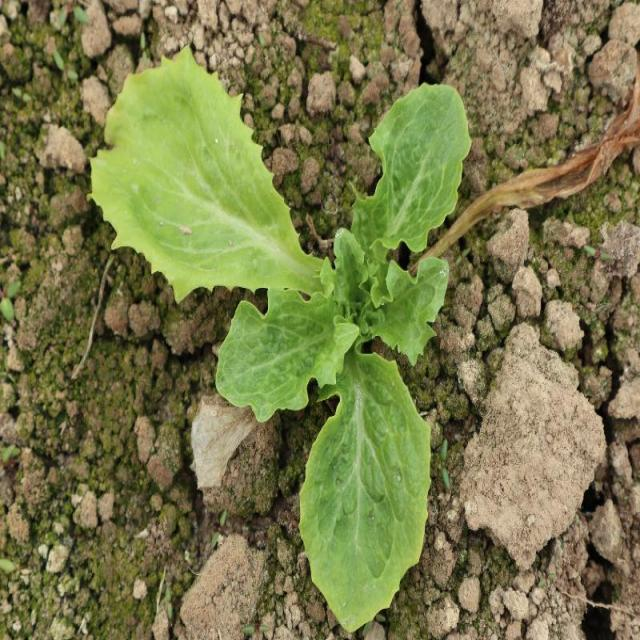crop: (87, 52, 473, 630)
